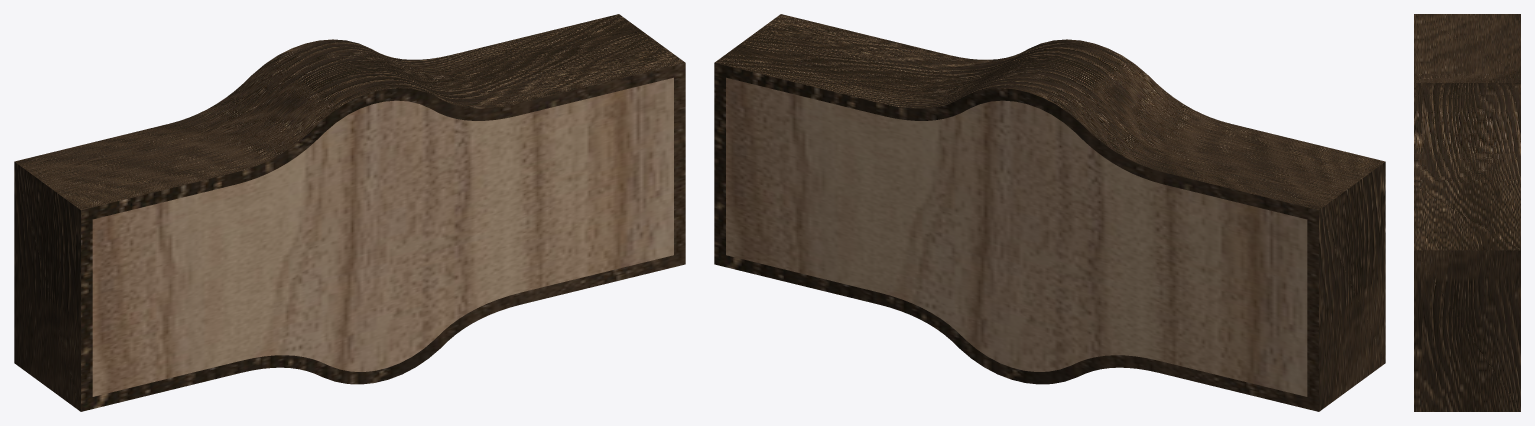
The model's file is Minus.FBX.
3 views of the same model, side by side, from view 1: azimuth 30°, elevation 25°; view 2: azimuth 150°, elevation 25°; view 3: azimuth 270°, elevation 25° (orthographic). The views are drawn at different scales.
Visible parts, largest first — view 1: Minus, Minus_outline; view 2: Minus, Minus_outline; view 3: Minus_outline.
Part boxes in pixels (left/top/right/bottom): Minus: left=92, top=77, right=673, bottom=396; Minus_outline: left=14, top=14, right=685, bottom=411; Minus: left=726, top=77, right=1307, bottom=396; Minus_outline: left=714, top=14, right=1385, bottom=411; Minus_outline: left=1414, top=14, right=1520, bottom=411.
Size of the model in its own units: 52.4 by 24.13 by 10.
Materials: 2 (2 with a texture image).
